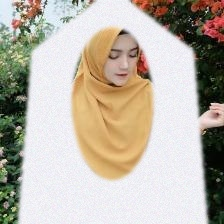Mukena: (12, 29, 212, 224)
